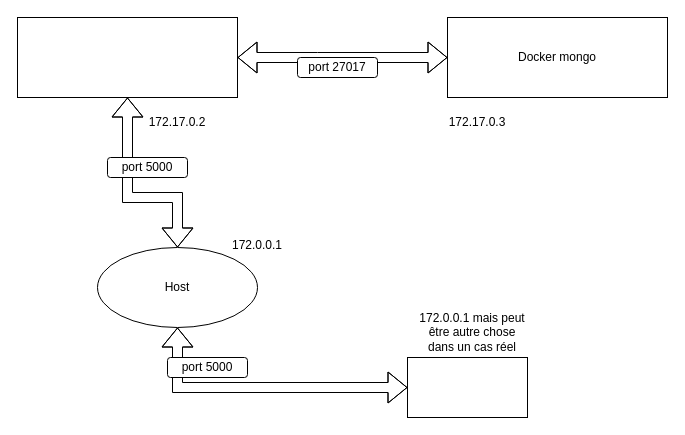
The diagram is 685 pixels wide and 435 high, and some of its shapes have lost their labels. The box of each missing label's shape, as (x1, y1, x2, y2) in pixels:
client: (406, 356, 528, 418)
Docker webapp: (16, 16, 238, 98)
